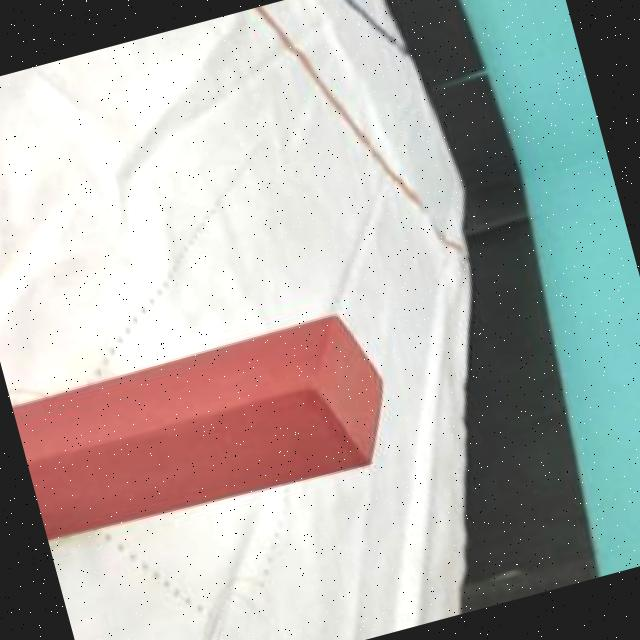redbox: (11, 306, 407, 548)
